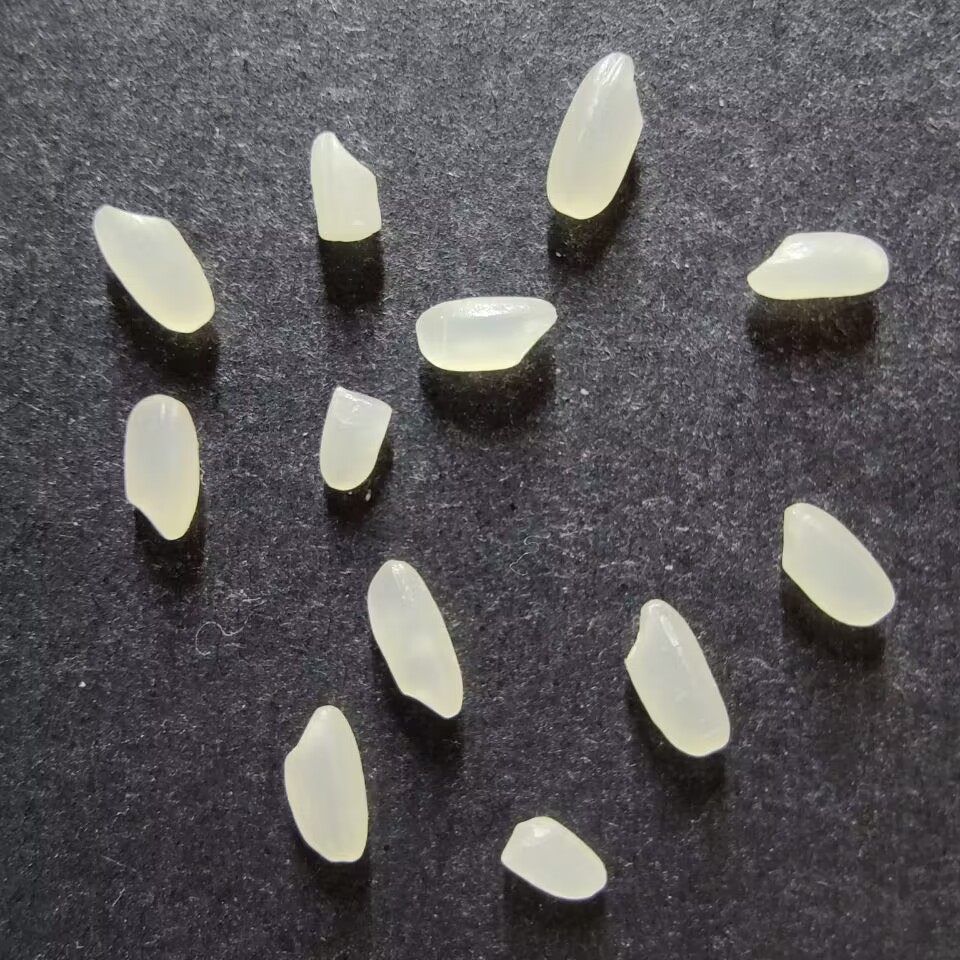broken: (500, 816, 607, 900), (309, 131, 381, 242), (318, 387, 392, 490)
rice: (623, 598, 730, 756), (545, 52, 643, 219), (92, 204, 215, 333), (366, 559, 463, 719), (781, 501, 895, 627), (282, 705, 368, 862), (123, 394, 199, 540), (415, 295, 557, 372), (746, 231, 887, 299)
